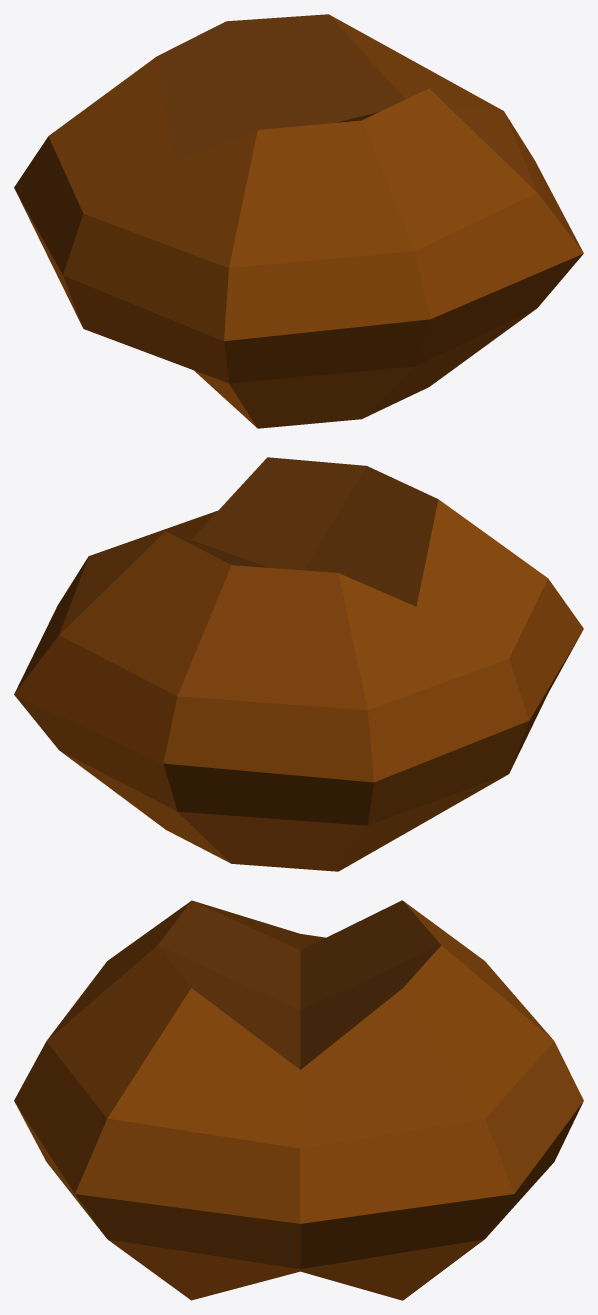
The model's file is bread.fbx.
3 renders of one model, top to bottom at view 1: azimuth 30°, elevation 25°; view 2: azimuth 150°, elevation 25°; view 3: azimuth 270°, elevation 25°, orthographic. The views are drawn at different scales.
Visible parts, largest first — view 1: Cube; view 2: Cube; view 3: Cube.
Boxes of the visible parts, bbox=[...] form: Cube: bbox=[14, 14, 583, 428]; Cube: bbox=[14, 457, 583, 871]; Cube: bbox=[14, 900, 583, 1300].
Bounding box in the file's own units: 64.03 × 38.74 × 64.01.
